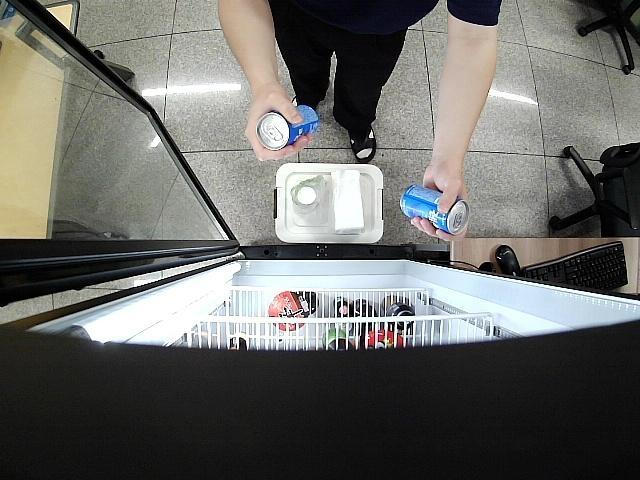15_letsbe: (399, 184, 470, 236), (257, 104, 321, 151)
